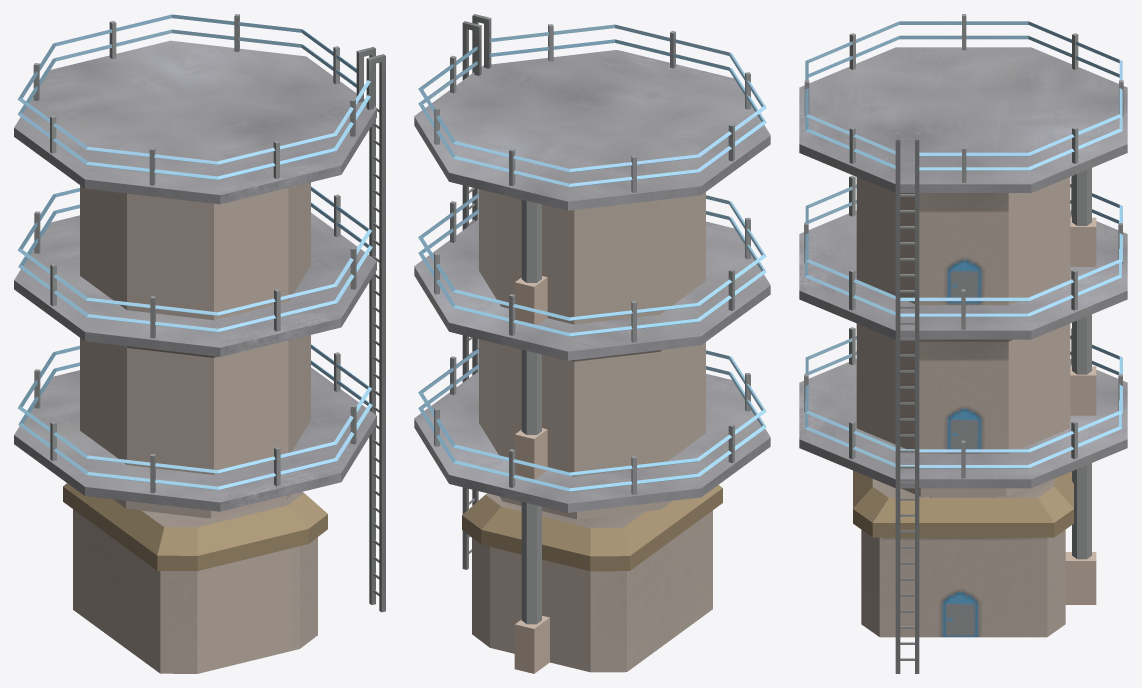
The model's file is silo1blend.fbx.
3 views of the same model, side by side, from view 1: azimuth 30°, elevation 25°; view 2: azimuth 150°, elevation 25°; view 3: azimuth 270°, elevation 25° (orthographic). The views are drawn at different scales.
Parts seen in each view (by area): view 1: Cube.001; view 2: Cube.001; view 3: Cube.001.
Boxes of the visible parts, bbox=[...] form: Cube.001: bbox=[14, 14, 385, 673]; Cube.001: bbox=[414, 14, 770, 673]; Cube.001: bbox=[799, 14, 1127, 673].
Size of the model in its own units: 408 by 718 by 400.
